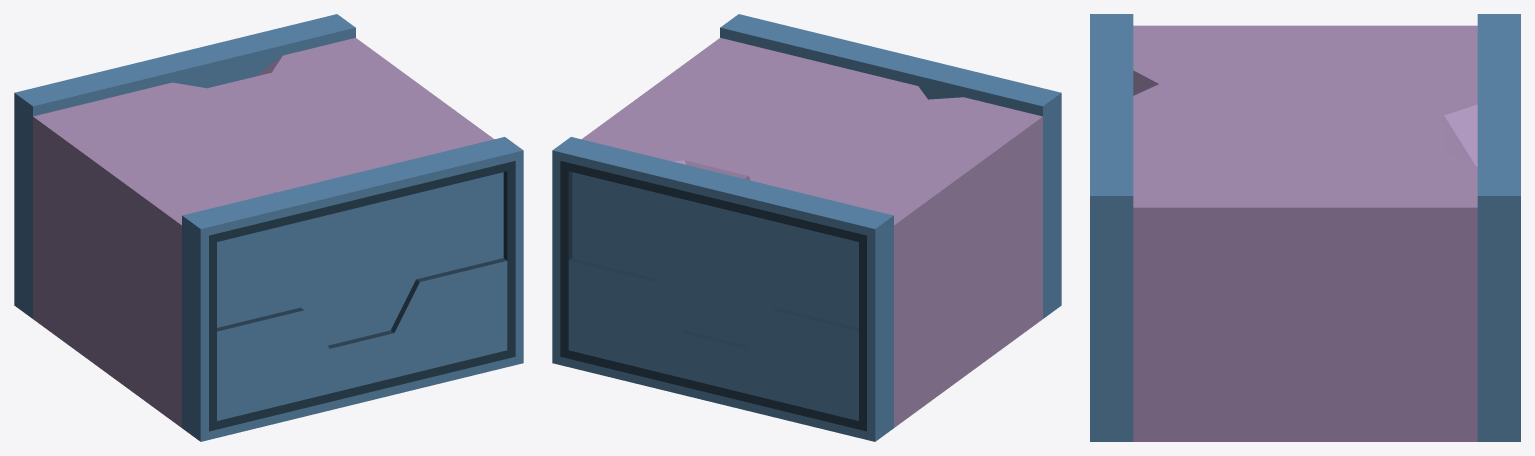
The model's file is Wall.005.fbx.
3 renders of one model, left to right at view 1: azimuth 30°, elevation 25°; view 2: azimuth 150°, elevation 25°; view 3: azimuth 270°, elevation 25°, orthographic. The views are drawn at different scales.
Visible parts, largest first — view 1: Wall.005; view 2: Wall.005; view 3: Wall.005.
Boxes of the visible parts, x1=… form: Wall.005: x1=14, y1=14, x2=523, y2=441; Wall.005: x1=552, y1=14, x2=1061, y2=441; Wall.005: x1=1090, y1=14, x2=1520, y2=441.
Bounding box in the file's own units: 1000 × 630 × 1000.
